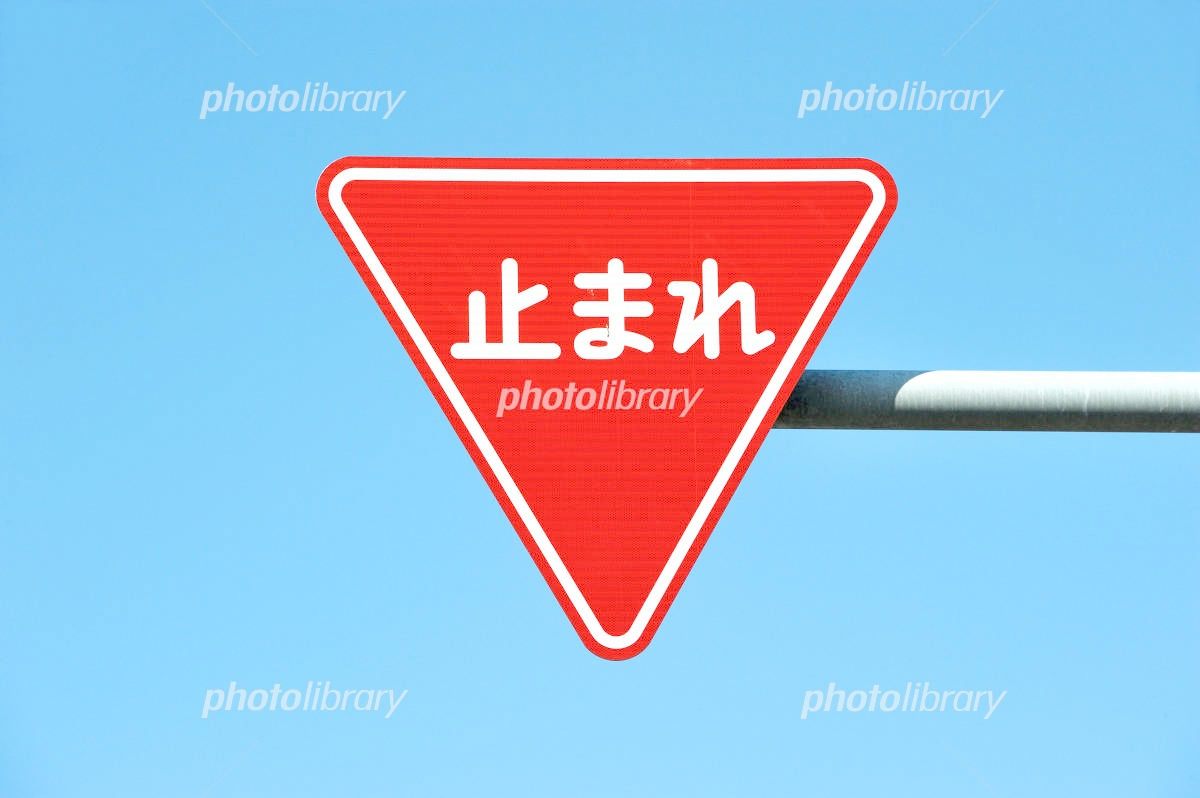Regulatory_sign_triangle: (311, 146, 923, 677)
